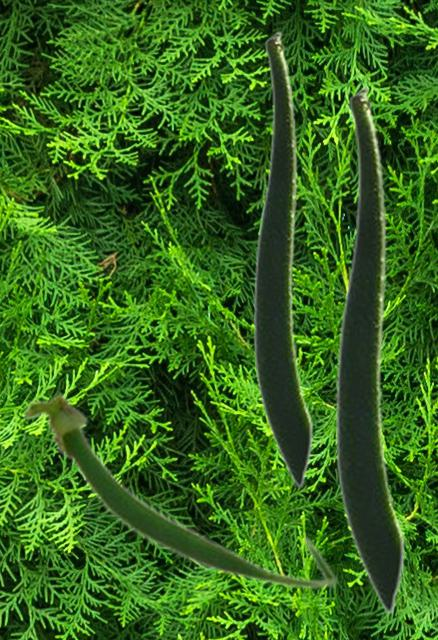french_bean: (21, 390, 338, 590), (334, 85, 405, 614), (252, 30, 313, 488)
